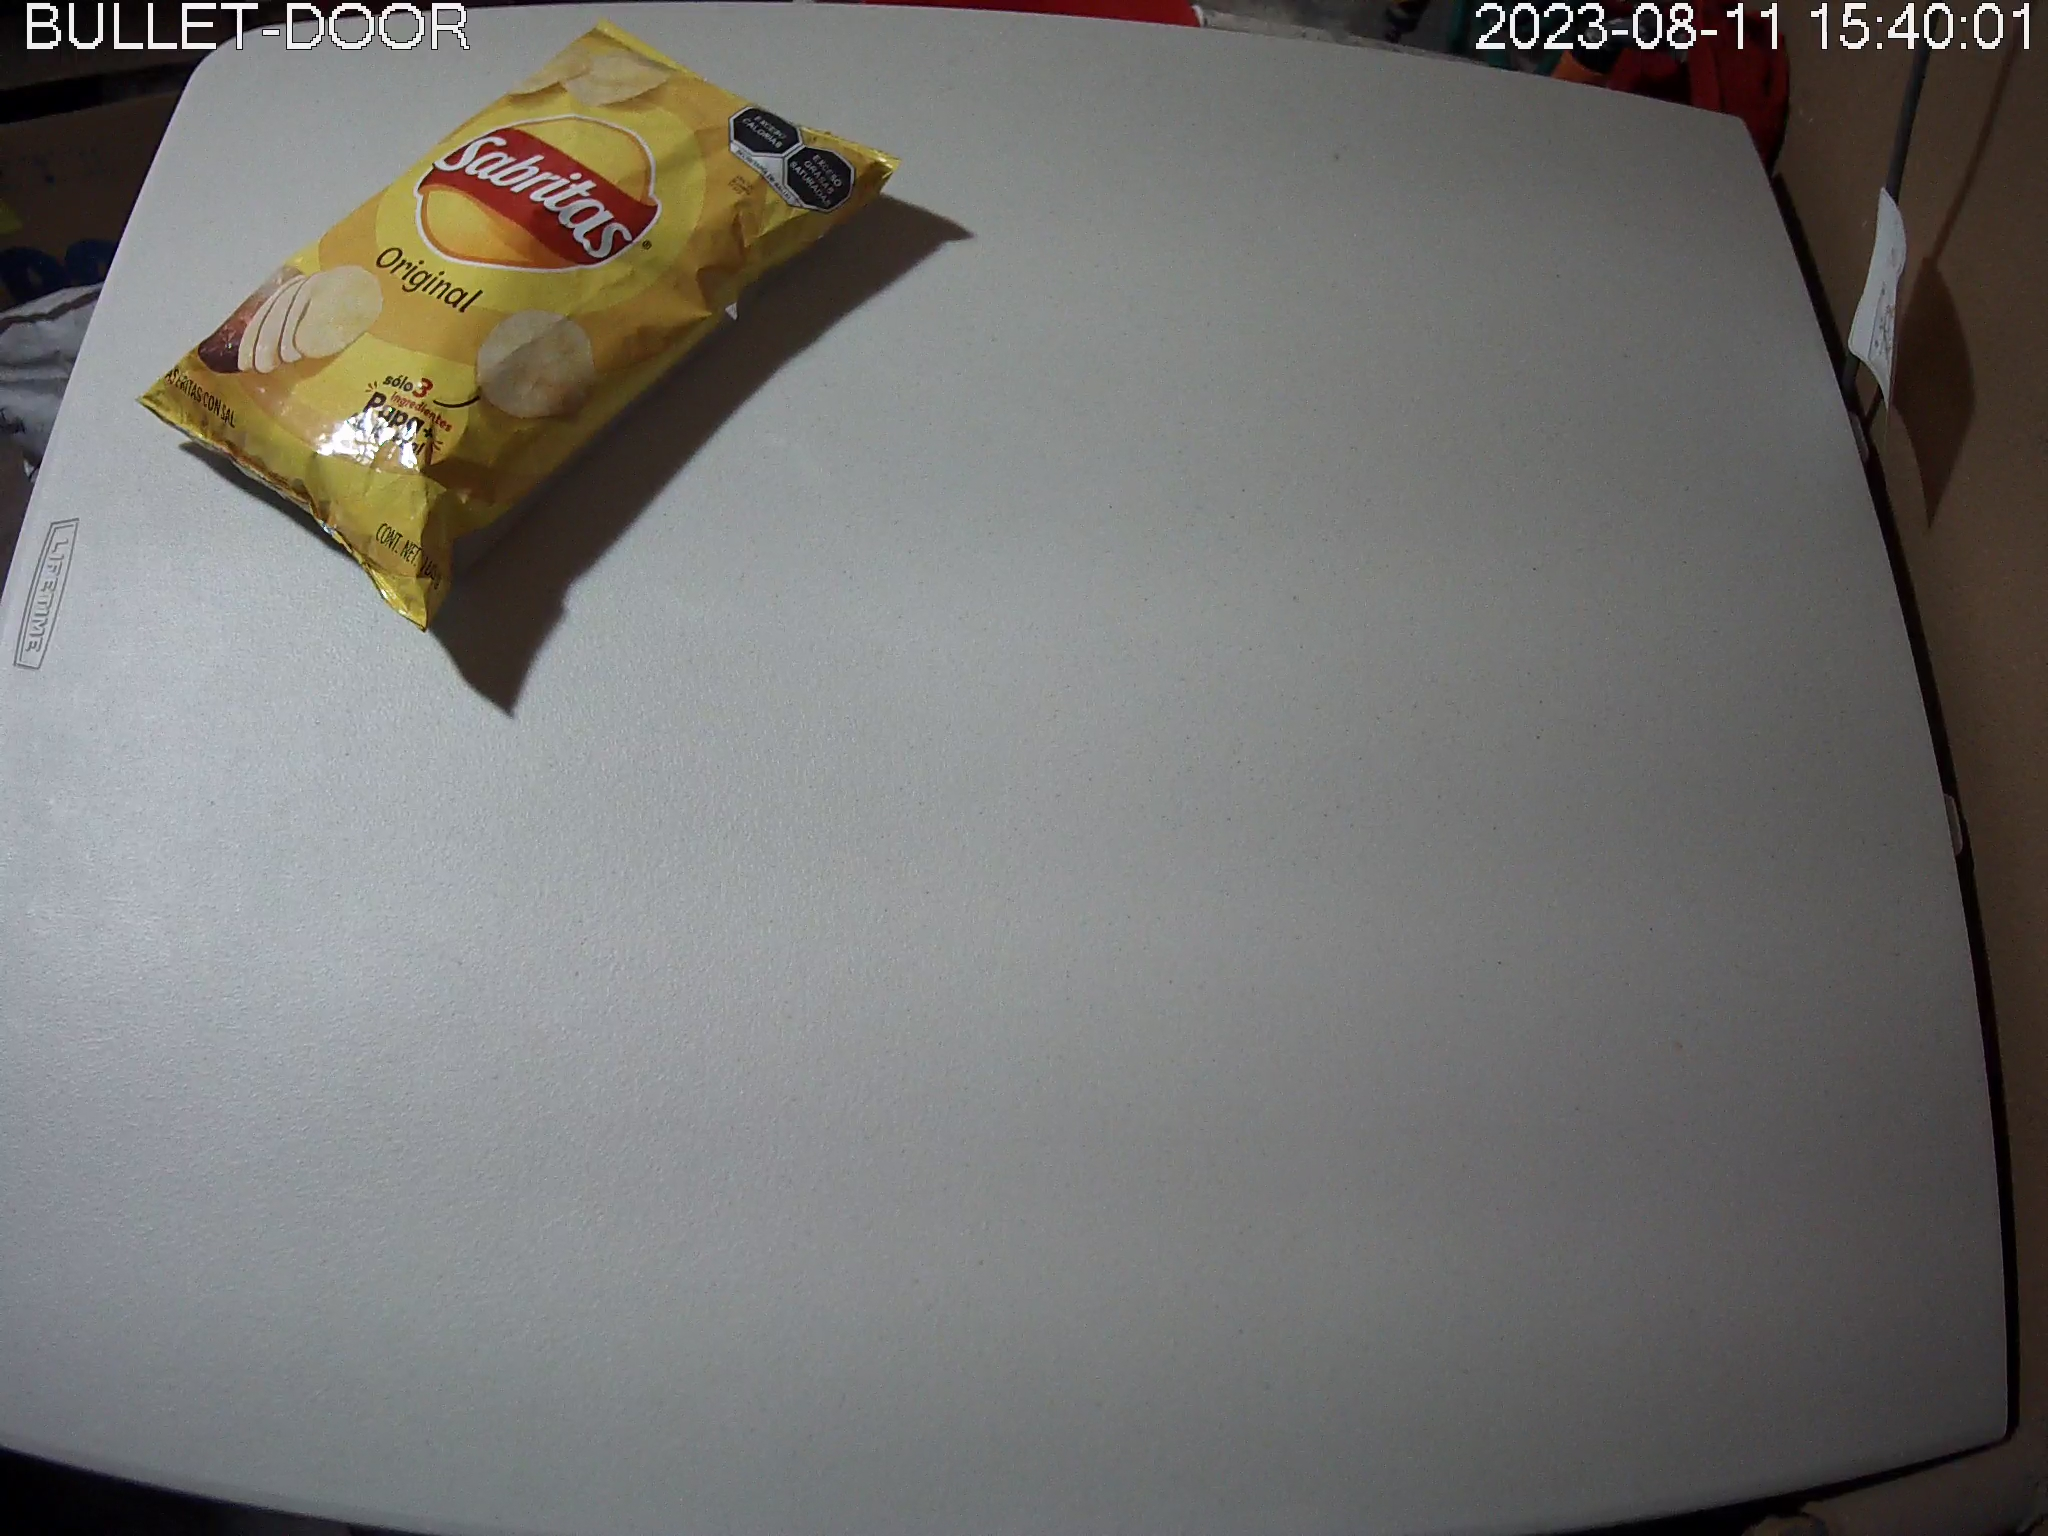Sabritas_160_F: (132, 18, 900, 632)
